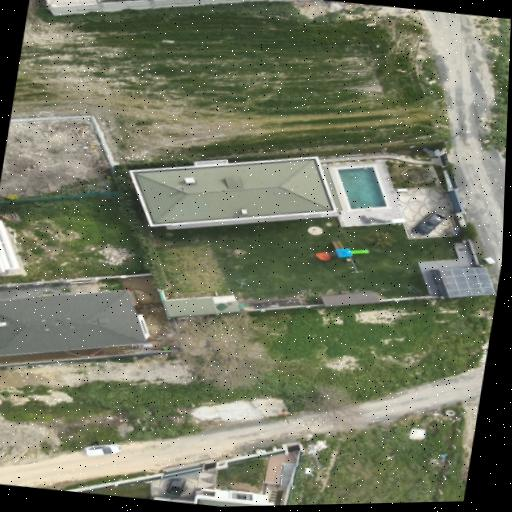car: (413, 212, 446, 235), (84, 444, 120, 456), (167, 480, 184, 495)
